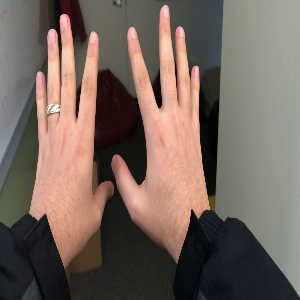hand: (111, 3, 210, 226), (36, 14, 114, 235)
